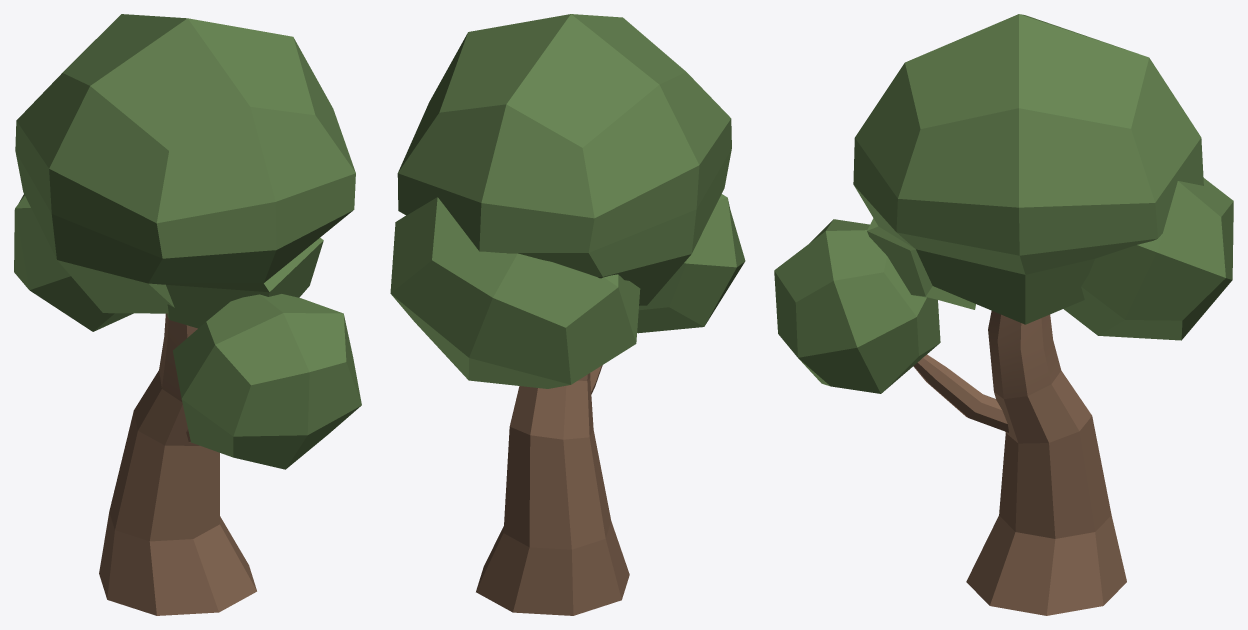
The model's file is atoll_deciduousTree_01.fbx.
The picture shows the model from 3 angles, left to right: view 1: azimuth 30°, elevation 25°; view 2: azimuth 150°, elevation 25°; view 3: azimuth 270°, elevation 25°; orthographic projection. The views are drawn at different scales.
Parts seen in each view (by area): view 1: pCube1, pCube3, pCylinder1, pCube2; view 2: pCube1, pCube2, pCylinder1, pCube3; view 3: pCube1, pCylinder1, pCube3, pCube2, pCylinder2.
Part boxes in pixels (box(x1,y1,x2,y2)): pCube1: box(15, 14, 355, 328); pCube3: box(173, 294, 361, 469); pCylinder1: box(99, 313, 256, 615); pCube2: box(14, 194, 133, 331); pCube1: box(397, 14, 731, 305); pCube2: box(390, 197, 640, 388); pCylinder1: box(476, 373, 629, 615); pCube3: box(637, 194, 745, 333); pCube1: box(853, 14, 1203, 324); pCylinder1: box(966, 311, 1126, 615); pCube3: box(774, 219, 940, 393); pCube2: box(1064, 178, 1233, 340); pCylinder2: box(913, 354, 1008, 432).
Bounding box in the file's own units: 525 × 1028 × 757.
